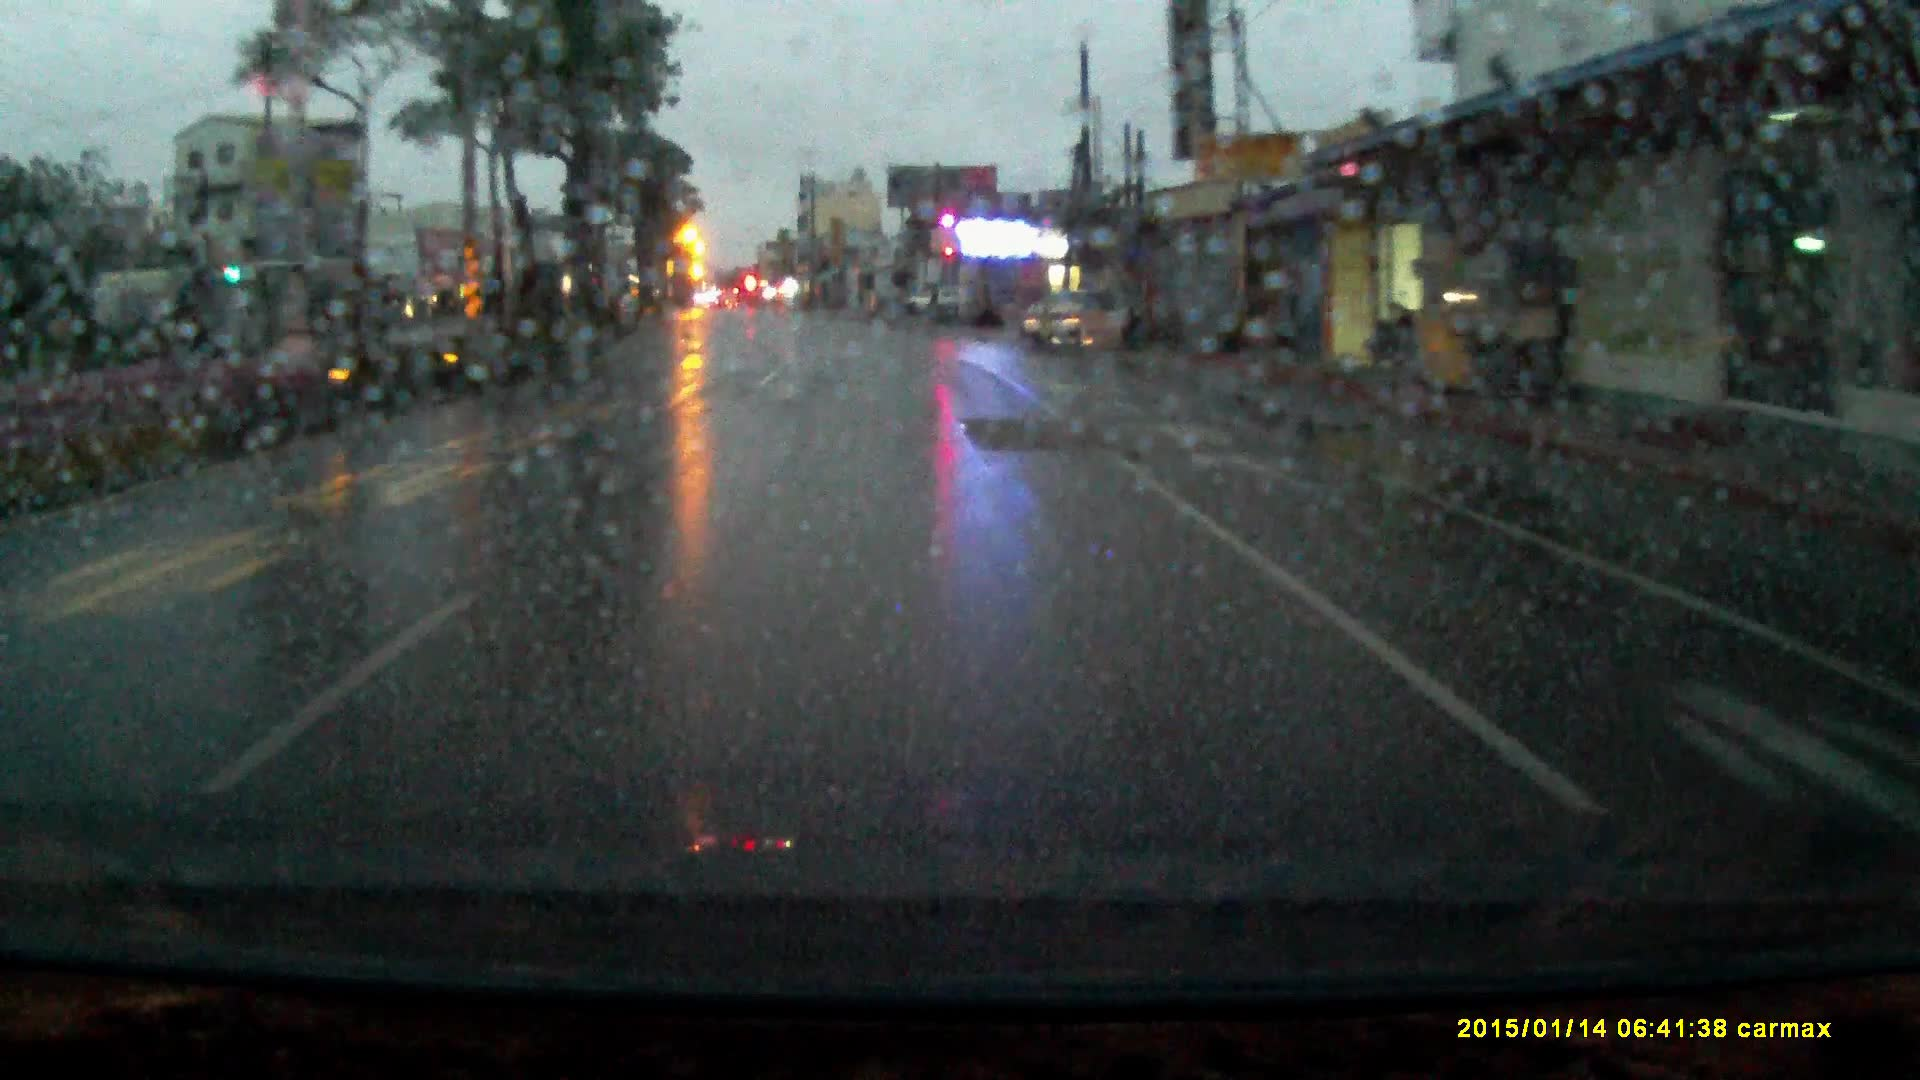vehicle: (1021, 284, 1131, 357), (905, 284, 959, 313)
